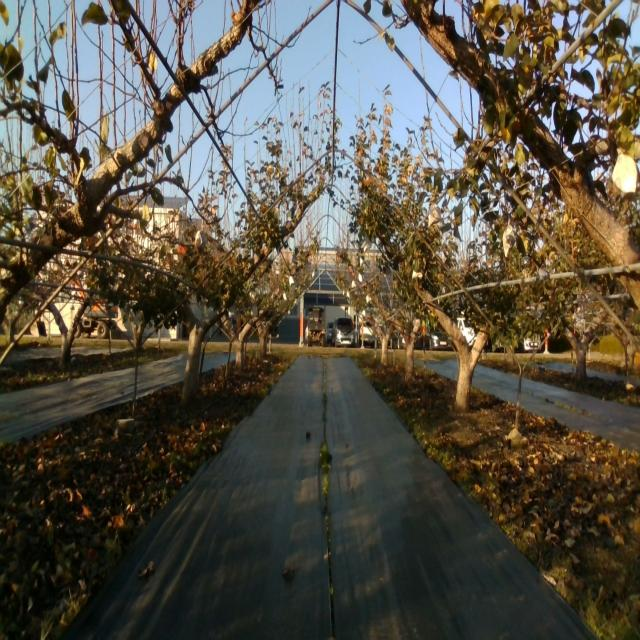pearbags: (611, 147, 639, 200), (501, 220, 518, 259), (195, 225, 208, 252), (428, 204, 441, 226)
